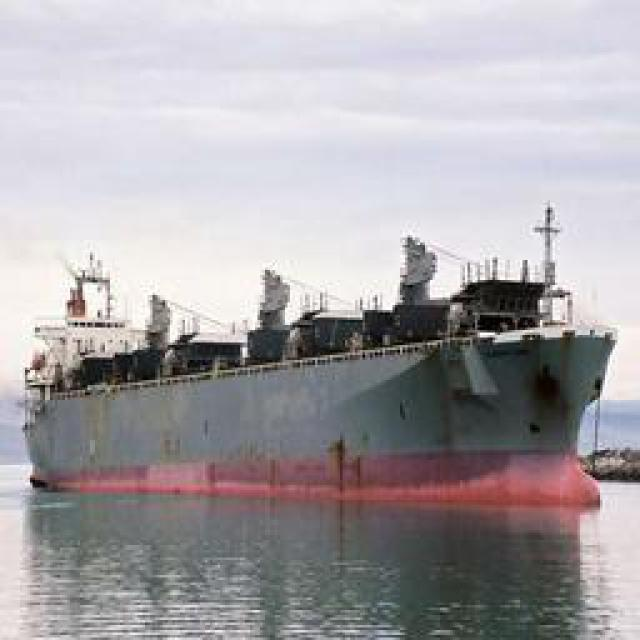Ship: (22, 208, 615, 516)
